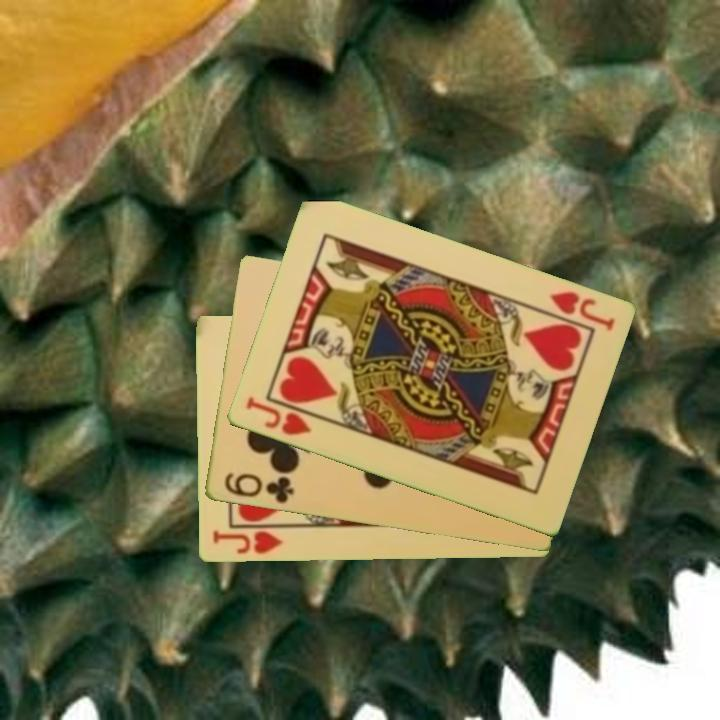6c: (220, 469, 296, 507)
Jh: (242, 393, 324, 439), (545, 288, 617, 335), (208, 527, 285, 558)
